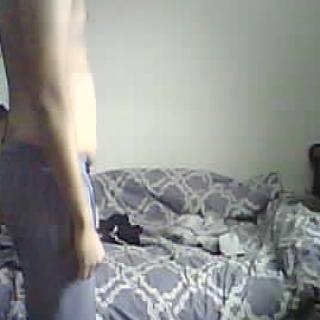Blue Sweatpants: (0, 134, 110, 320)
